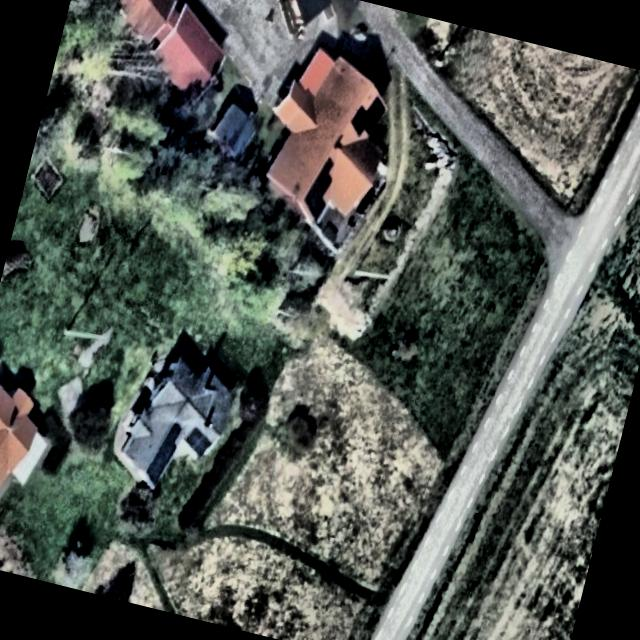roof_pv: (144, 412, 185, 490), (344, 87, 389, 144), (300, 152, 338, 219), (180, 421, 216, 462)
